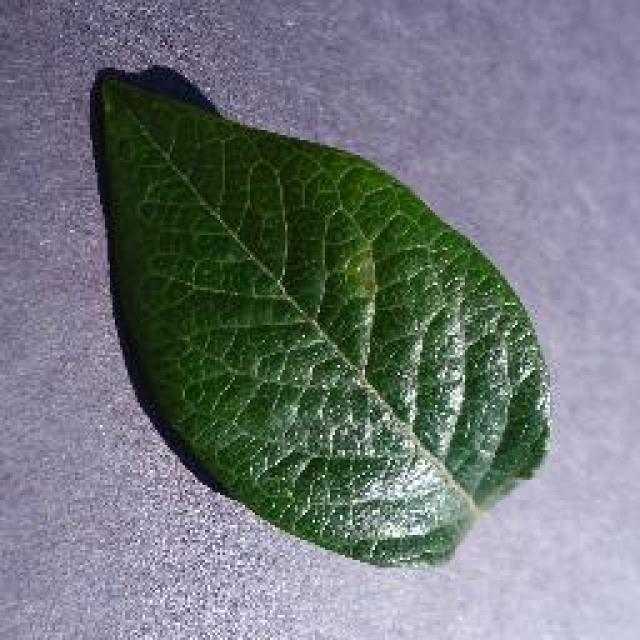Blu_healthy: (104, 161, 465, 461)
